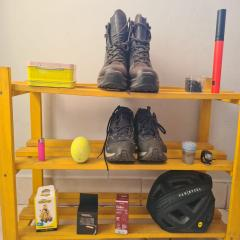bola: (71, 136, 91, 164)
bomba: (211, 7, 226, 94)
bota1: (97, 9, 159, 93)
bota2: (104, 106, 168, 163)
capacete: (146, 169, 216, 234)
cx-bike: (76, 191, 99, 236)
cx-ferro: (115, 193, 128, 234)
cx-magali: (27, 60, 78, 88)
cx-minions: (34, 185, 59, 232)
cx-xuxa: (184, 74, 204, 93)
isqueiro: (37, 138, 46, 162)
luz: (200, 150, 213, 166)
pote: (181, 139, 198, 165)
